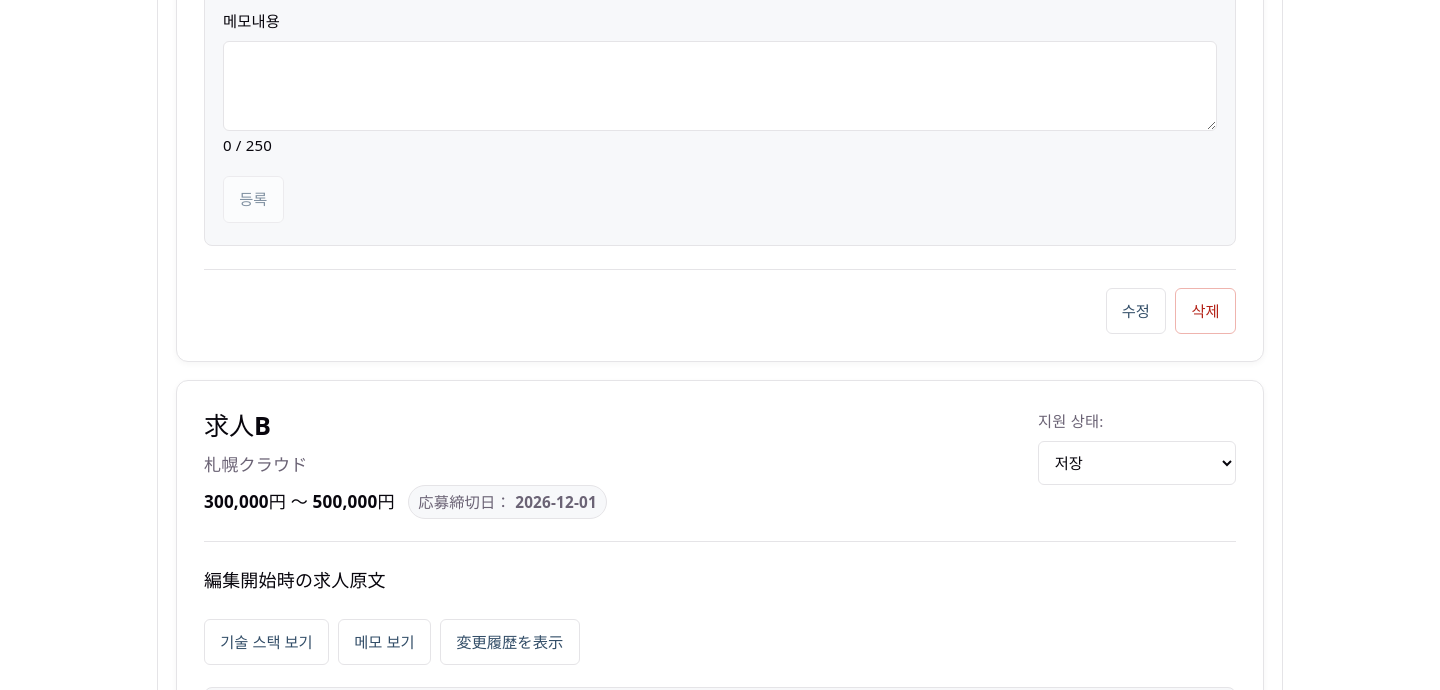
Test: 412 복구 › 새 recovery가 실패한 뒤 이전 recovery 응답이 도착해도 재편집 제한을 해제하지 않는다
(page scrolled)
Click the button "수정".
click(1136, 311)  # box left=1106, top=288, right=1166, bottom=334
(page scrolled)
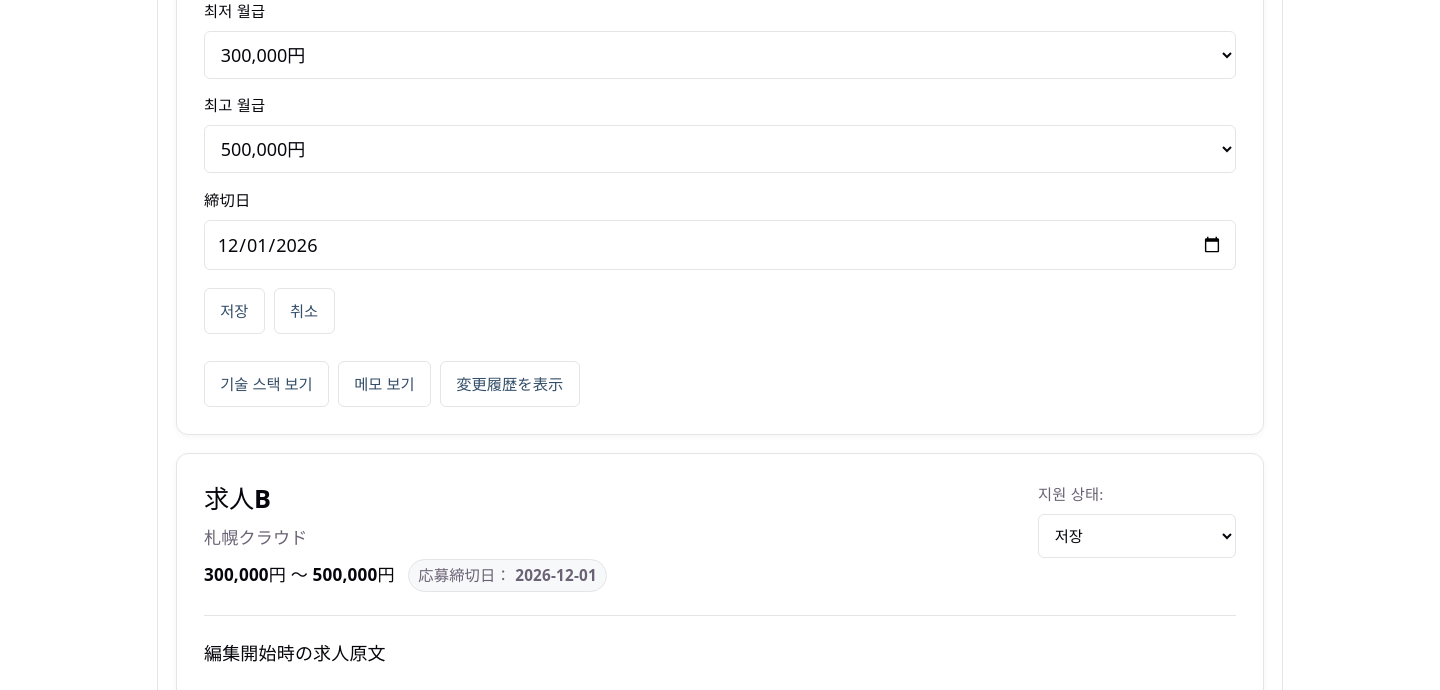
Click the button "저장".
click(234, 311)  # box left=204, top=288, right=265, bottom=334
(page scrolled)
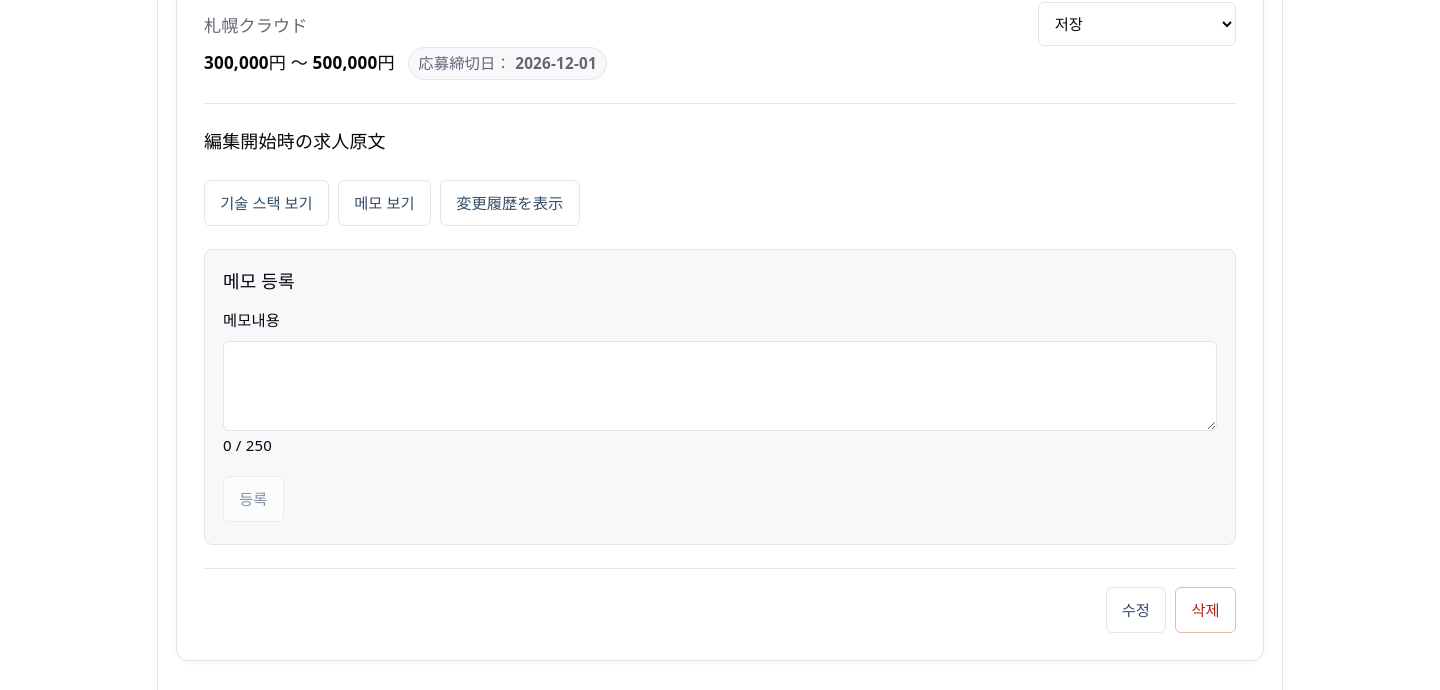
Click the button "수정".
click(1136, 610)  # box left=1106, top=587, right=1166, bottom=633
(page scrolled)
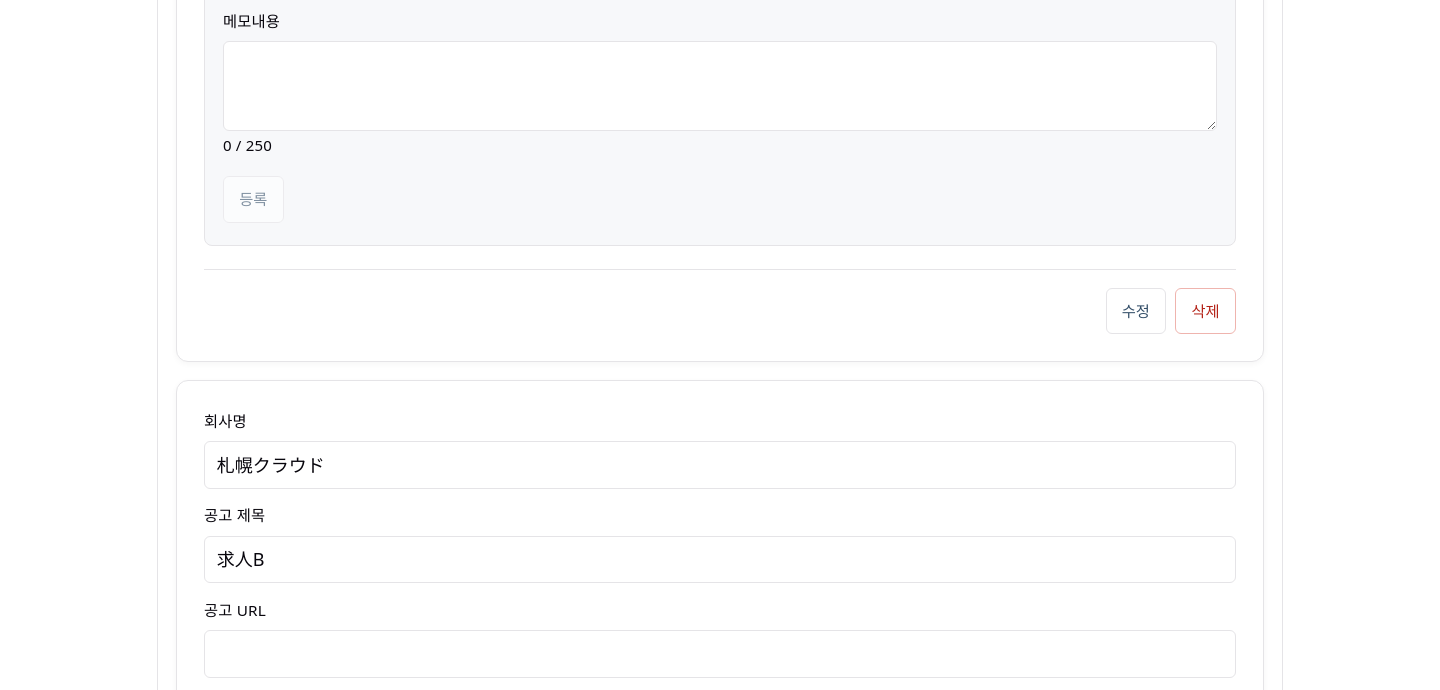
Click the button "수정".
click(1136, 311)  # box left=1106, top=288, right=1166, bottom=334
(page scrolled)
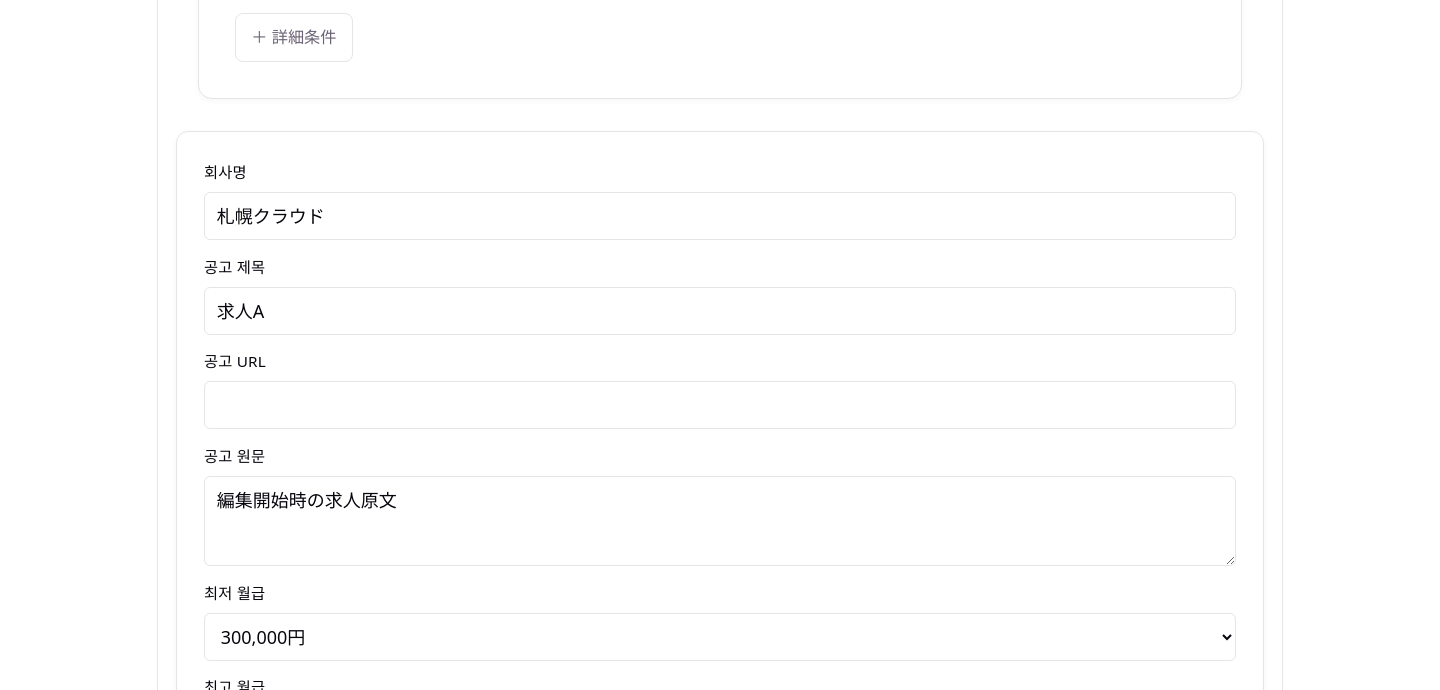
Replace the text in the field labelled "공고 제목" with "新しいAセッションの下書き" at (720, 311), box left=204, top=287, right=1236, bottom=335
(page scrolled)
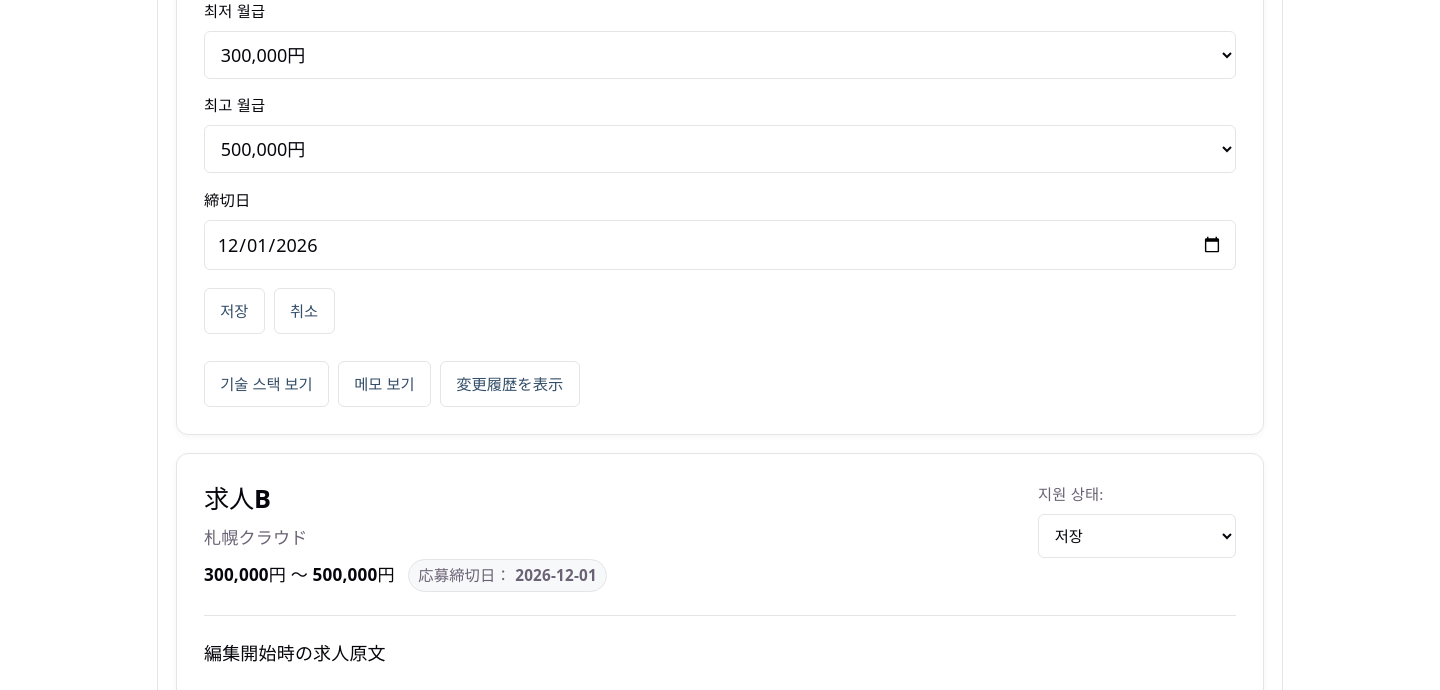
Click the button "저장".
click(234, 311)  # box left=204, top=288, right=265, bottom=334
(page scrolled)
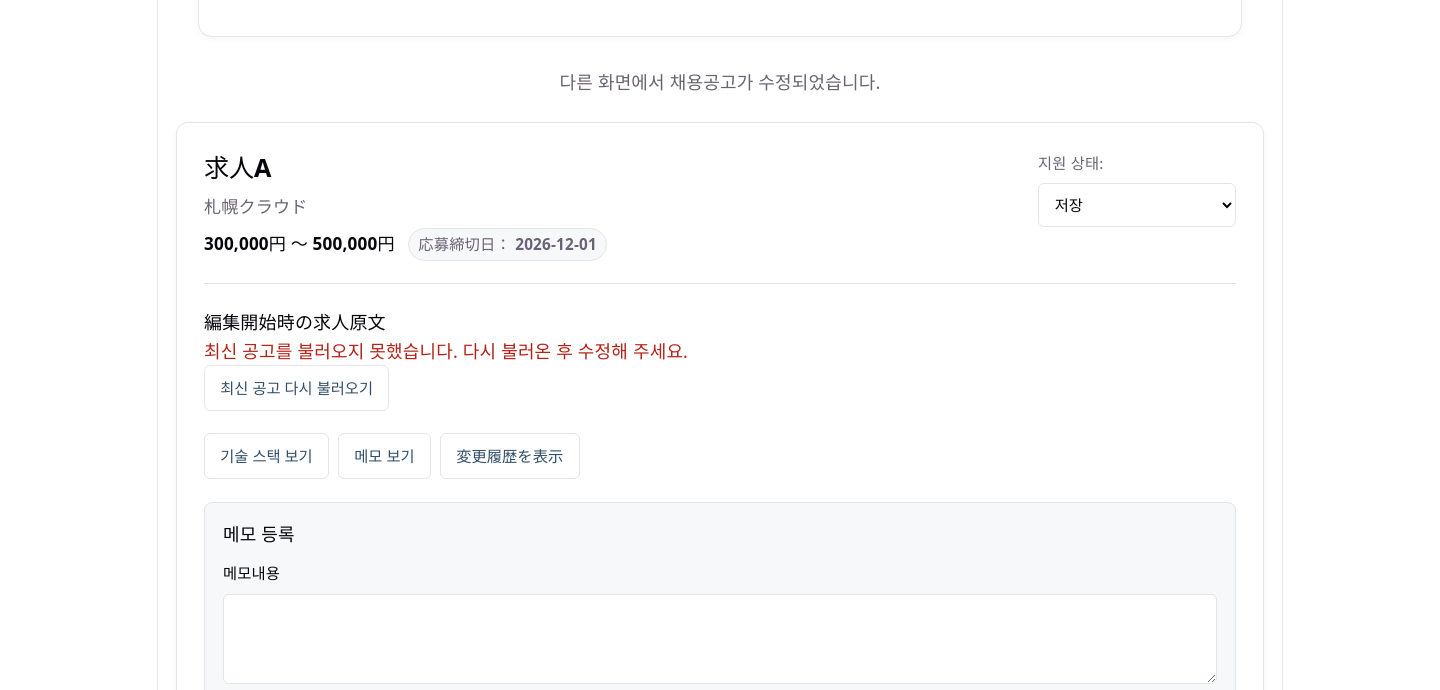
Check: the button "최신 공고 다시 불러오기" is enabled, box left=204, top=365, right=389, bottom=411
Check: the text "최신 공고를 불러오지 못했습니다. 다시 불러온 후 수정해 주세요." is shown, box left=204, top=340, right=688, bottom=364
